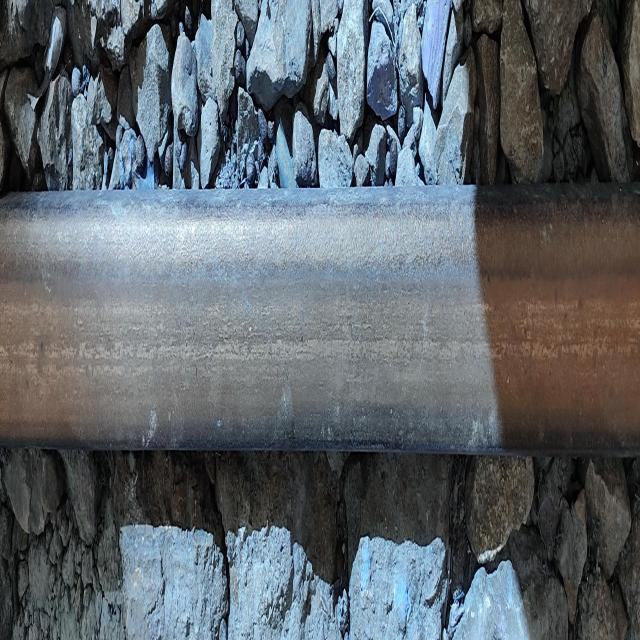head_checks_low: (140, 410, 158, 448)
